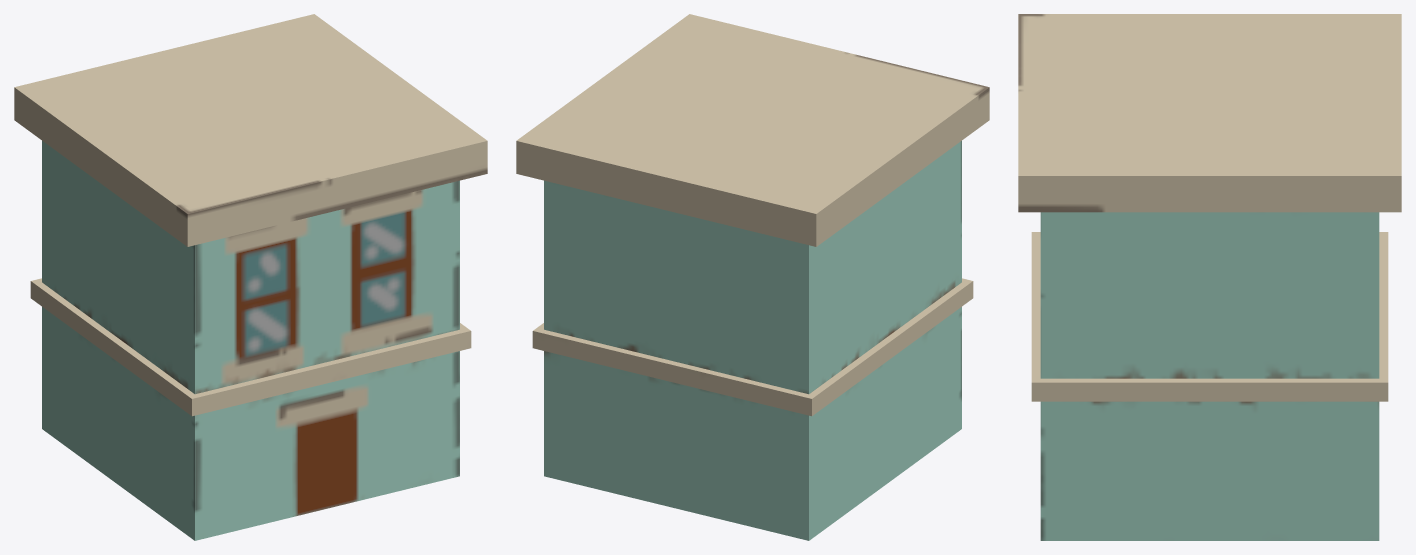
The model's file is PRP_Building_02.fbx.
The picture shows the model from 3 angles, left to right: view 1: azimuth 30°, elevation 25°; view 2: azimuth 150°, elevation 25°; view 3: azimuth 270°, elevation 25°; orthographic projection. The views are drawn at different scales.
Parts seen in each view (by area): view 1: Cube.078; view 2: Cube.078; view 3: Cube.078.
Part boxes in pixels (x1,y1,x2,y2): Cube.078: [14, 14, 487, 540]; Cube.078: [516, 14, 989, 540]; Cube.078: [1018, 14, 1401, 540].
Bounding box in the file's own units: 871 × 939 × 871.
